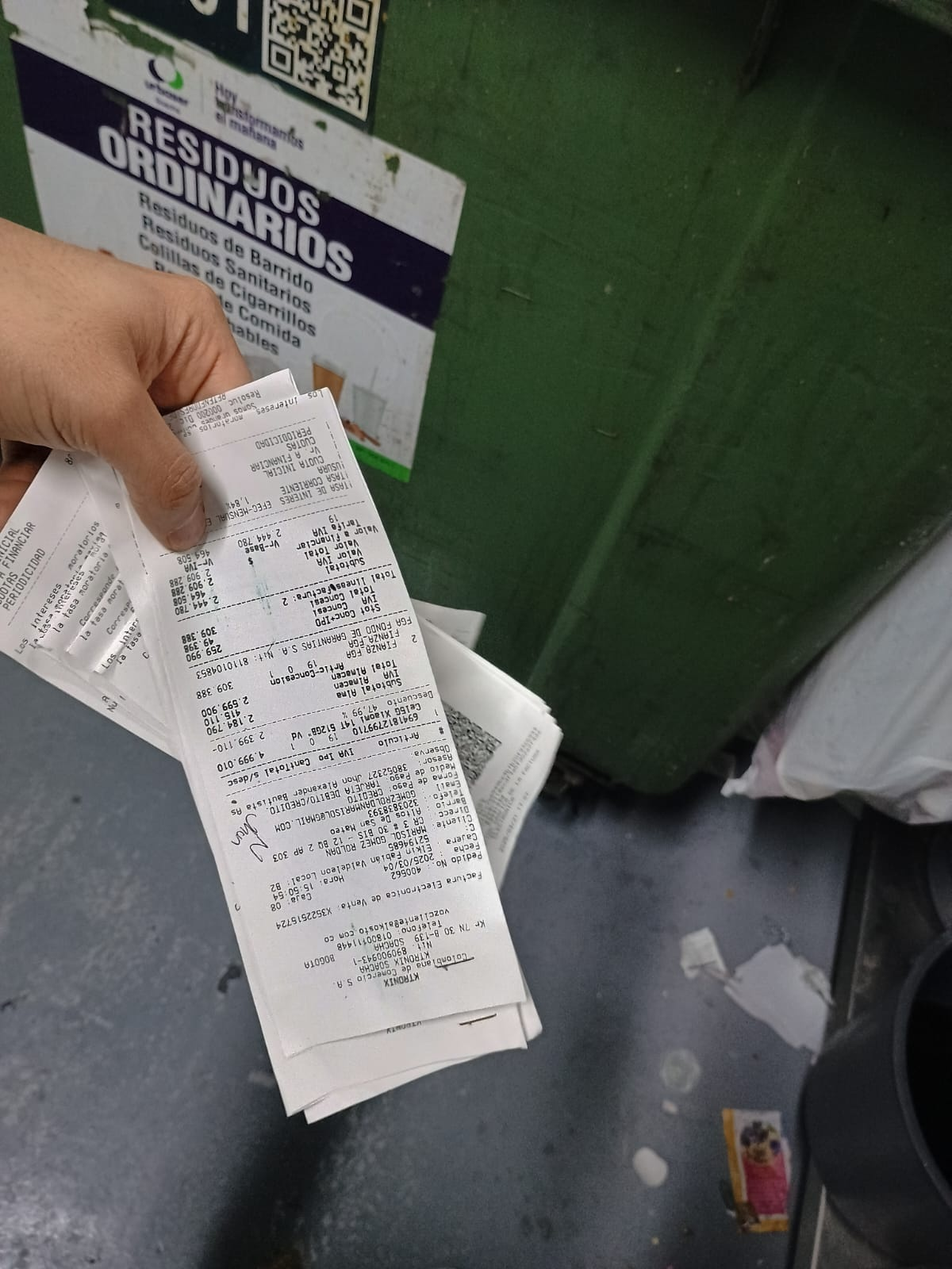Papel: (0, 361, 561, 1126)
